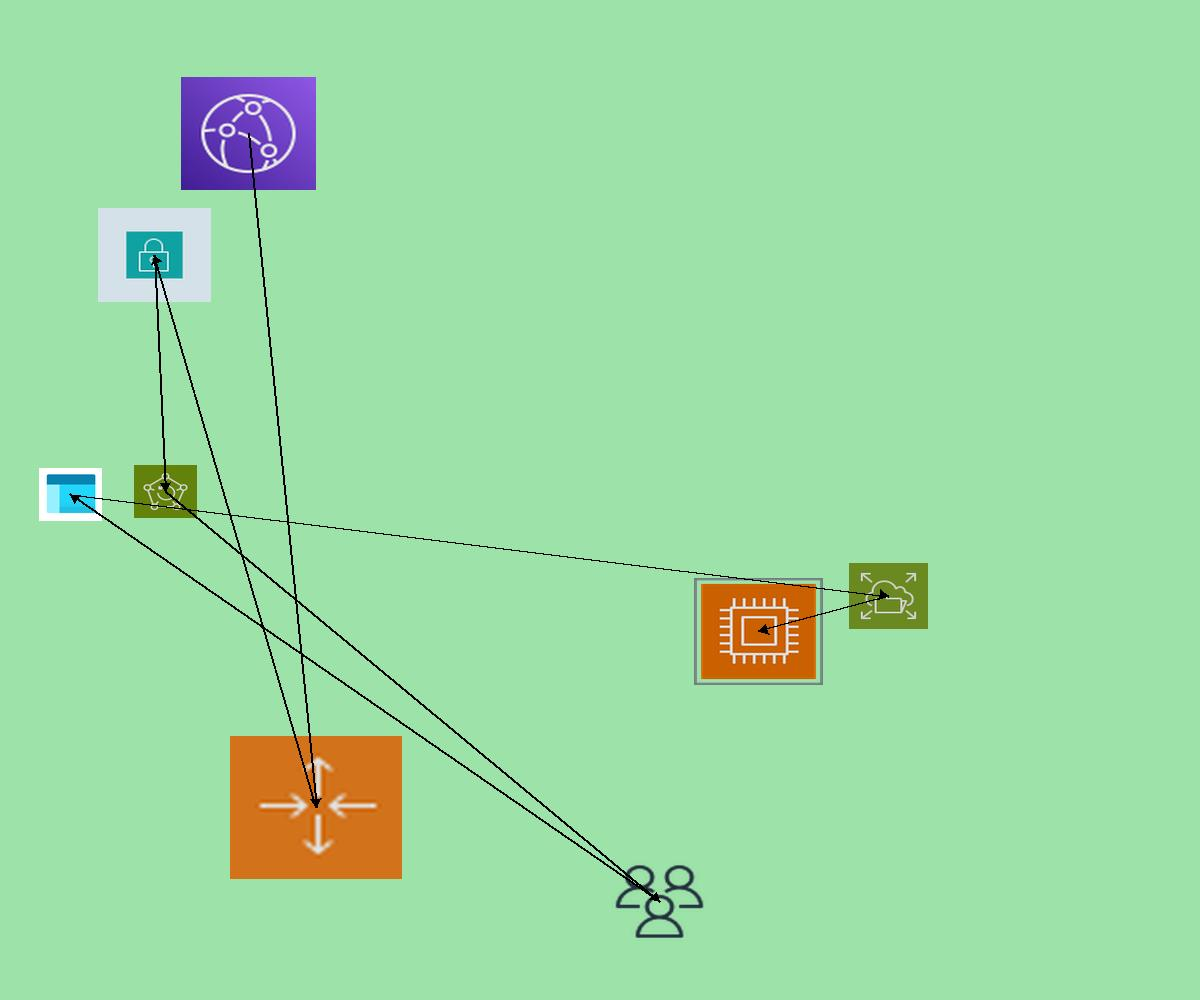AWS-Backup: (134, 465, 197, 518)
AWS-Category_Compute: (694, 578, 823, 685)
AWS-CloudFront: (181, 77, 316, 190)
AWS-EFS: (849, 563, 928, 629)
AWS-Private-subnet: (98, 208, 211, 302)
AWS-Res_Users: (612, 862, 707, 941)
AWS-Scaling-group: (230, 736, 402, 879)
Azure_management-portal: (39, 468, 102, 521)
